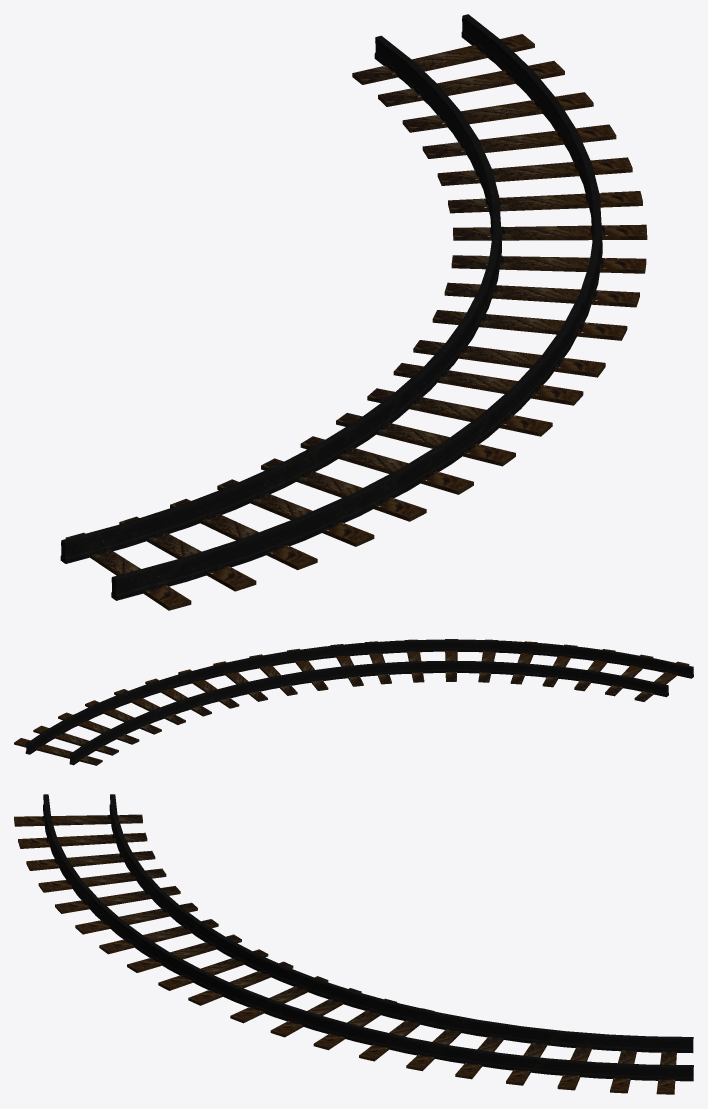
Rendered from track5.gltf.
The picture shows the model from 3 angles, top to bottom: view 1: azimuth 30°, elevation 25°; view 2: azimuth 150°, elevation 25°; view 3: azimuth 270°, elevation 25°; orthographic projection. The views are drawn at different scales.
Visible parts, largest first — view 1: Track_01polySurface161_lambert1_0.005; view 2: Track_01polySurface161_lambert1_0.005; view 3: Track_01polySurface161_lambert1_0.005.
Boxes of the visible parts, bbox=[...] form: Track_01polySurface161_lambert1_0.005: bbox=[60, 14, 647, 610]; Track_01polySurface161_lambert1_0.005: bbox=[14, 639, 693, 765]; Track_01polySurface161_lambert1_0.005: bbox=[14, 794, 693, 1094].
Bounding box in the file's own units: 210 × 5.12 × 212.
1 material, 1 textured.
